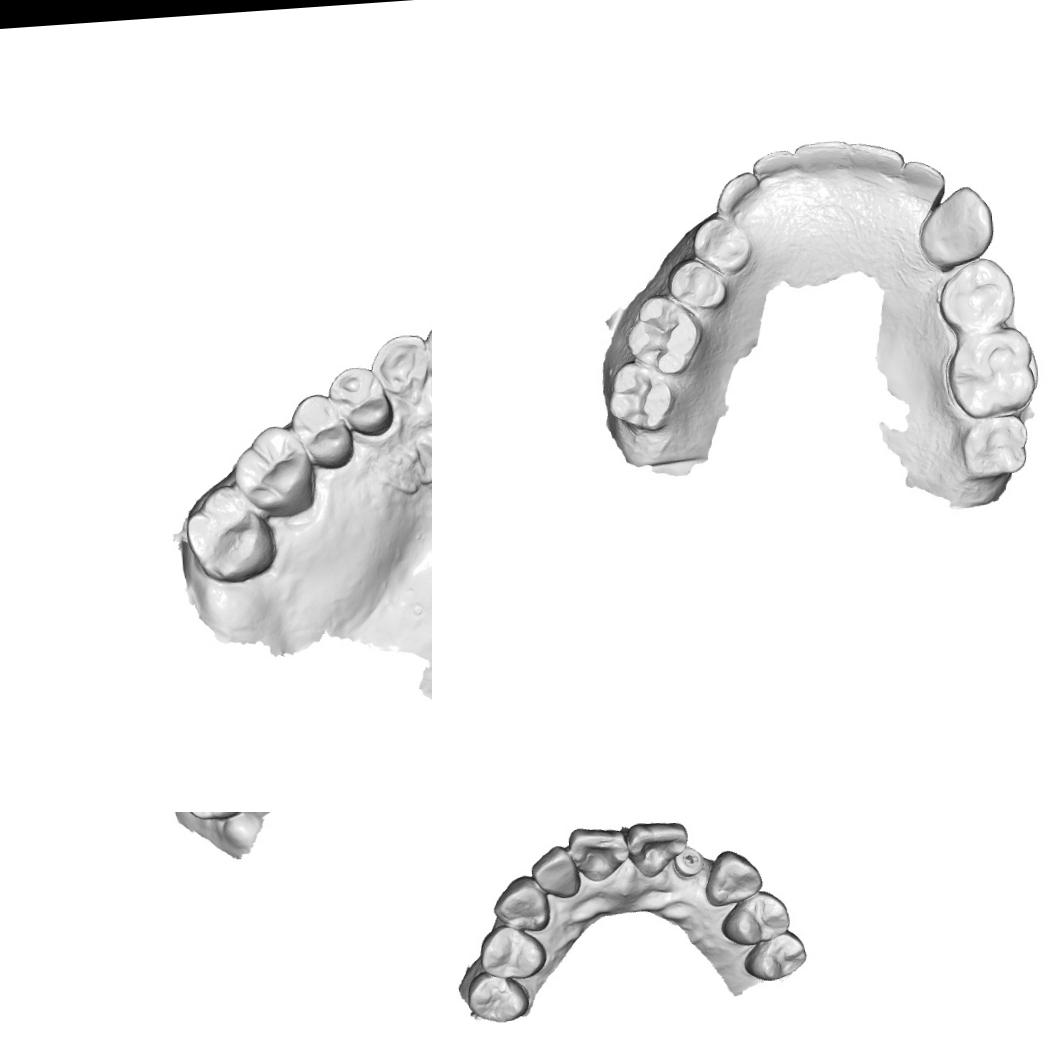canine: (913, 184, 998, 268), (367, 332, 427, 399), (700, 847, 764, 907), (490, 872, 551, 934), (711, 170, 765, 216)
implant_minus: (671, 845, 704, 880)
incisor: (624, 818, 690, 879), (566, 824, 630, 884), (528, 842, 581, 900), (846, 138, 899, 184), (788, 138, 848, 178), (903, 154, 947, 208), (750, 146, 796, 192)
molar: (182, 479, 280, 585), (225, 420, 319, 521), (941, 326, 1040, 419), (624, 293, 703, 378), (604, 358, 676, 438), (955, 410, 1029, 480)
premolar: (934, 256, 1024, 334), (286, 388, 356, 470), (326, 360, 395, 438), (716, 888, 791, 948), (477, 921, 548, 981), (664, 252, 729, 316), (689, 210, 749, 274), (464, 968, 530, 1024), (740, 930, 809, 982)
